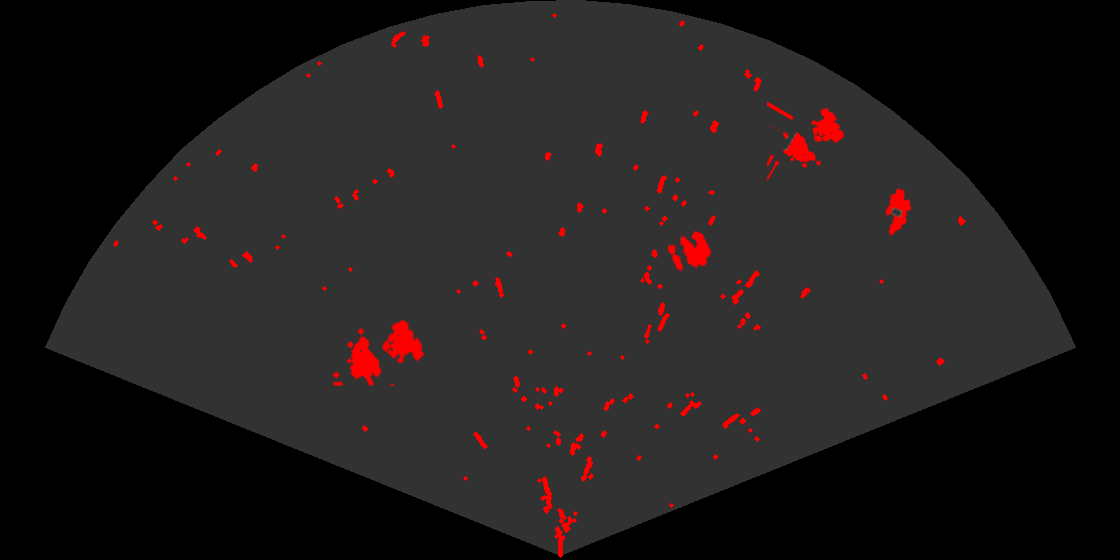AUV: (884, 186, 913, 237)
ball: (666, 229, 713, 273)
cage: (767, 100, 846, 182), (333, 318, 426, 386)
